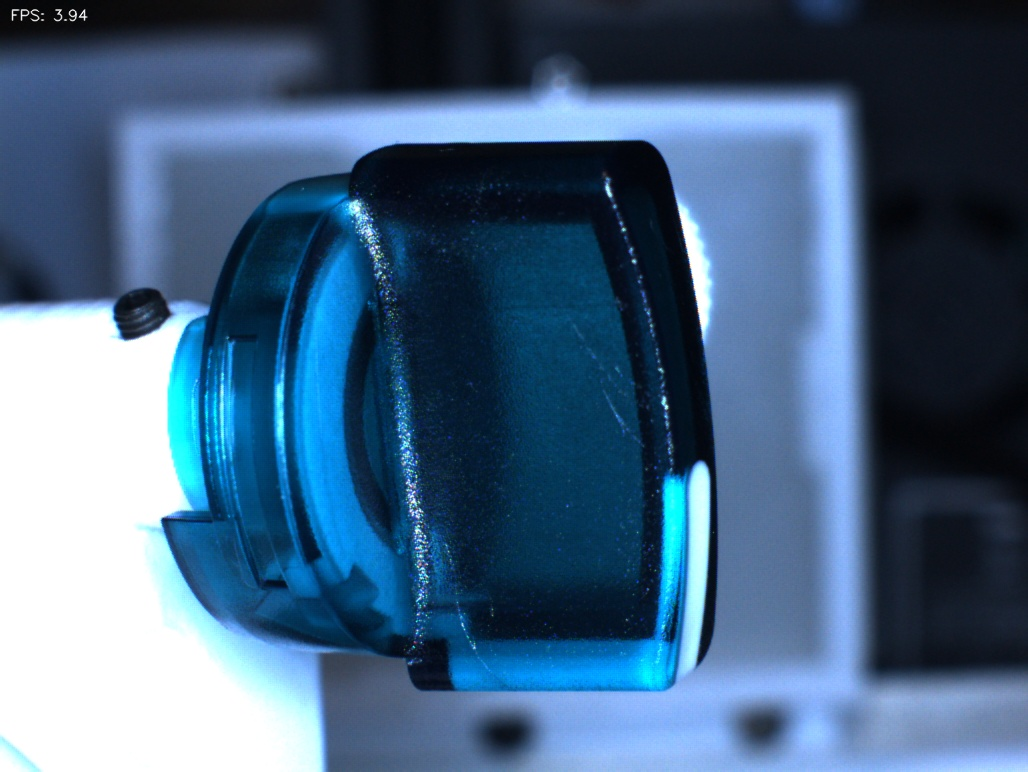Givrage: (560, 307, 656, 455)
